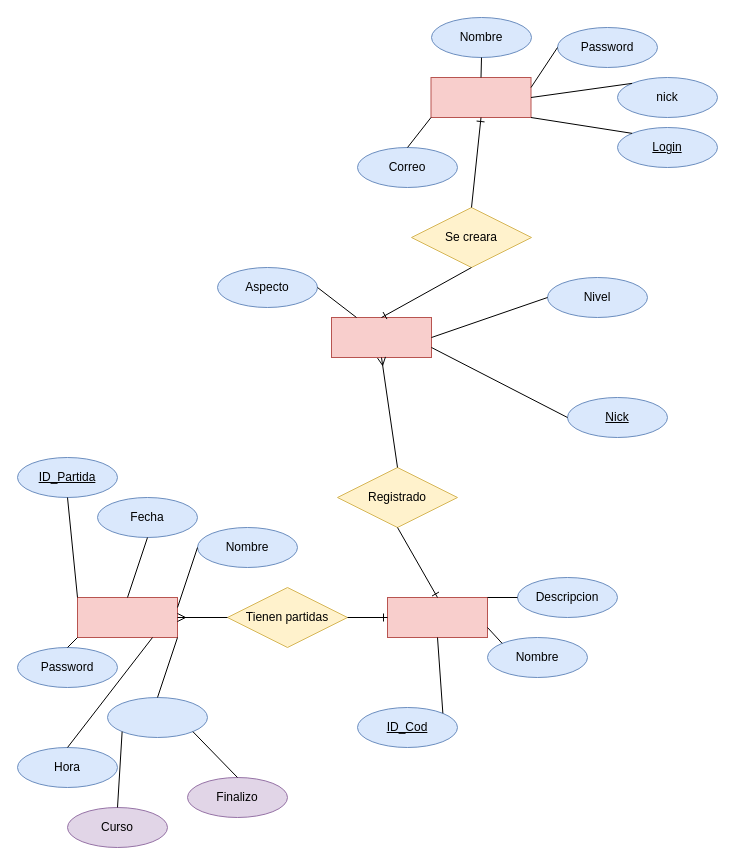
This 735x865 diagram has some shape labels left out. Here are the shapes that lost their labels. From the top down, the centre of each, then its label:
At pixel 480 97: "Cuenta/Usuario".
At pixel 381 337: "Avatar".
At pixel 127 617: "Partidas".
At pixel 437 617: "Juegos".
At pixel 157 717: "Estado".
